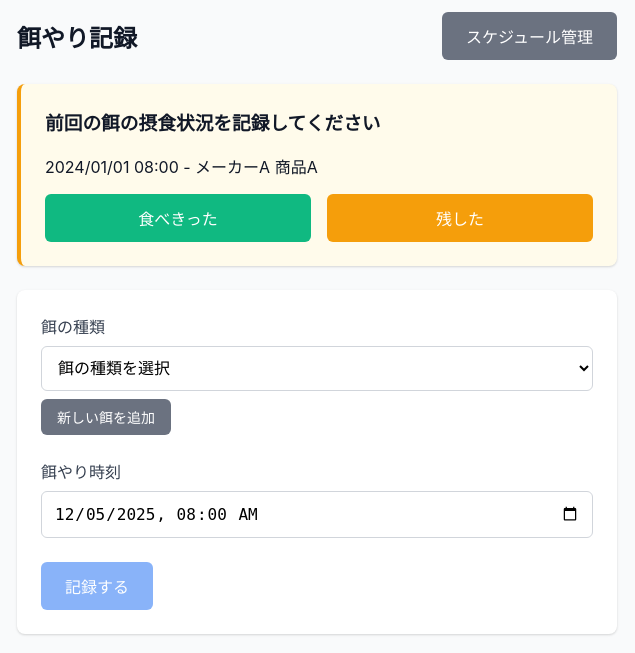
Test: FeedingRecordForm › Previous Consumption Recording › should update consumption status when "食べきった" button is clicked
Expected: the heading "前回の餌の摂食状況を記録してください" is shown, [45, 112, 380, 135]
Click the button "食べきった".
click(178, 218)  # box [45, 194, 311, 242]
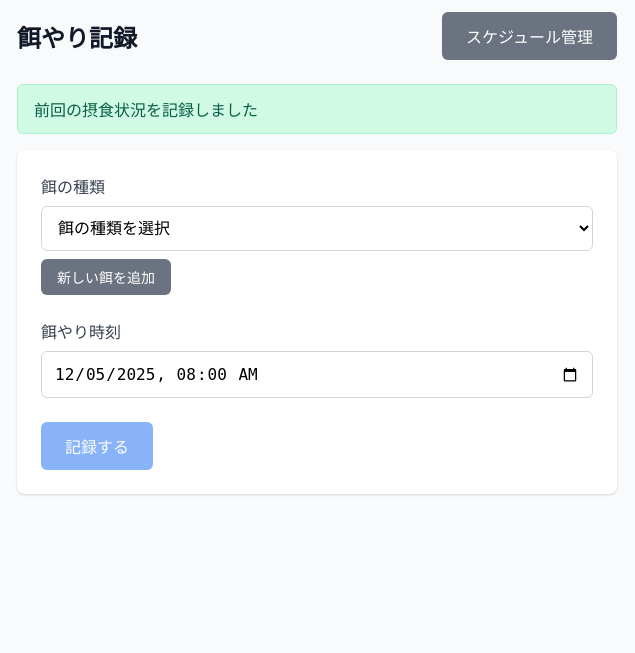
Result: the text "前回の摂食状況を記録しました" is shown at [17, 84, 617, 134]
